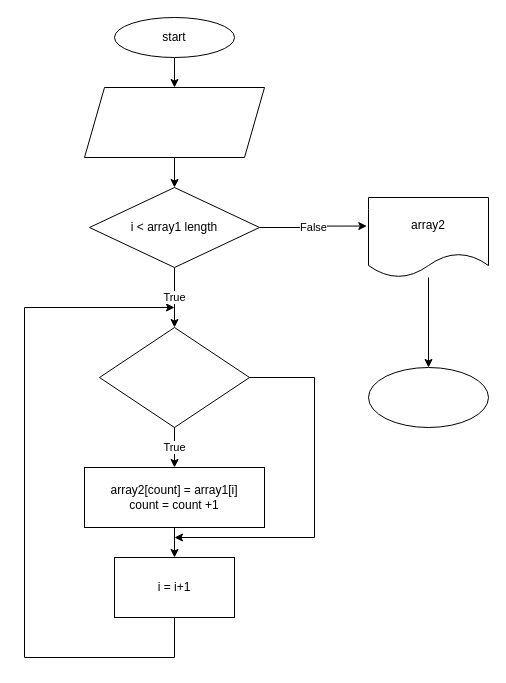
The diagram is 506 pixels wide and 683 high, and some of its shapes have lost their labels. Each missing label, with the centre of its shape:
"array1 //with elements array2 //empty array count =0 i = 0" belongs at (x=174, y=122).
"array1[i] length <= 3" belongs at (x=174, y=377).
"end" belongs at (x=428, y=397).
